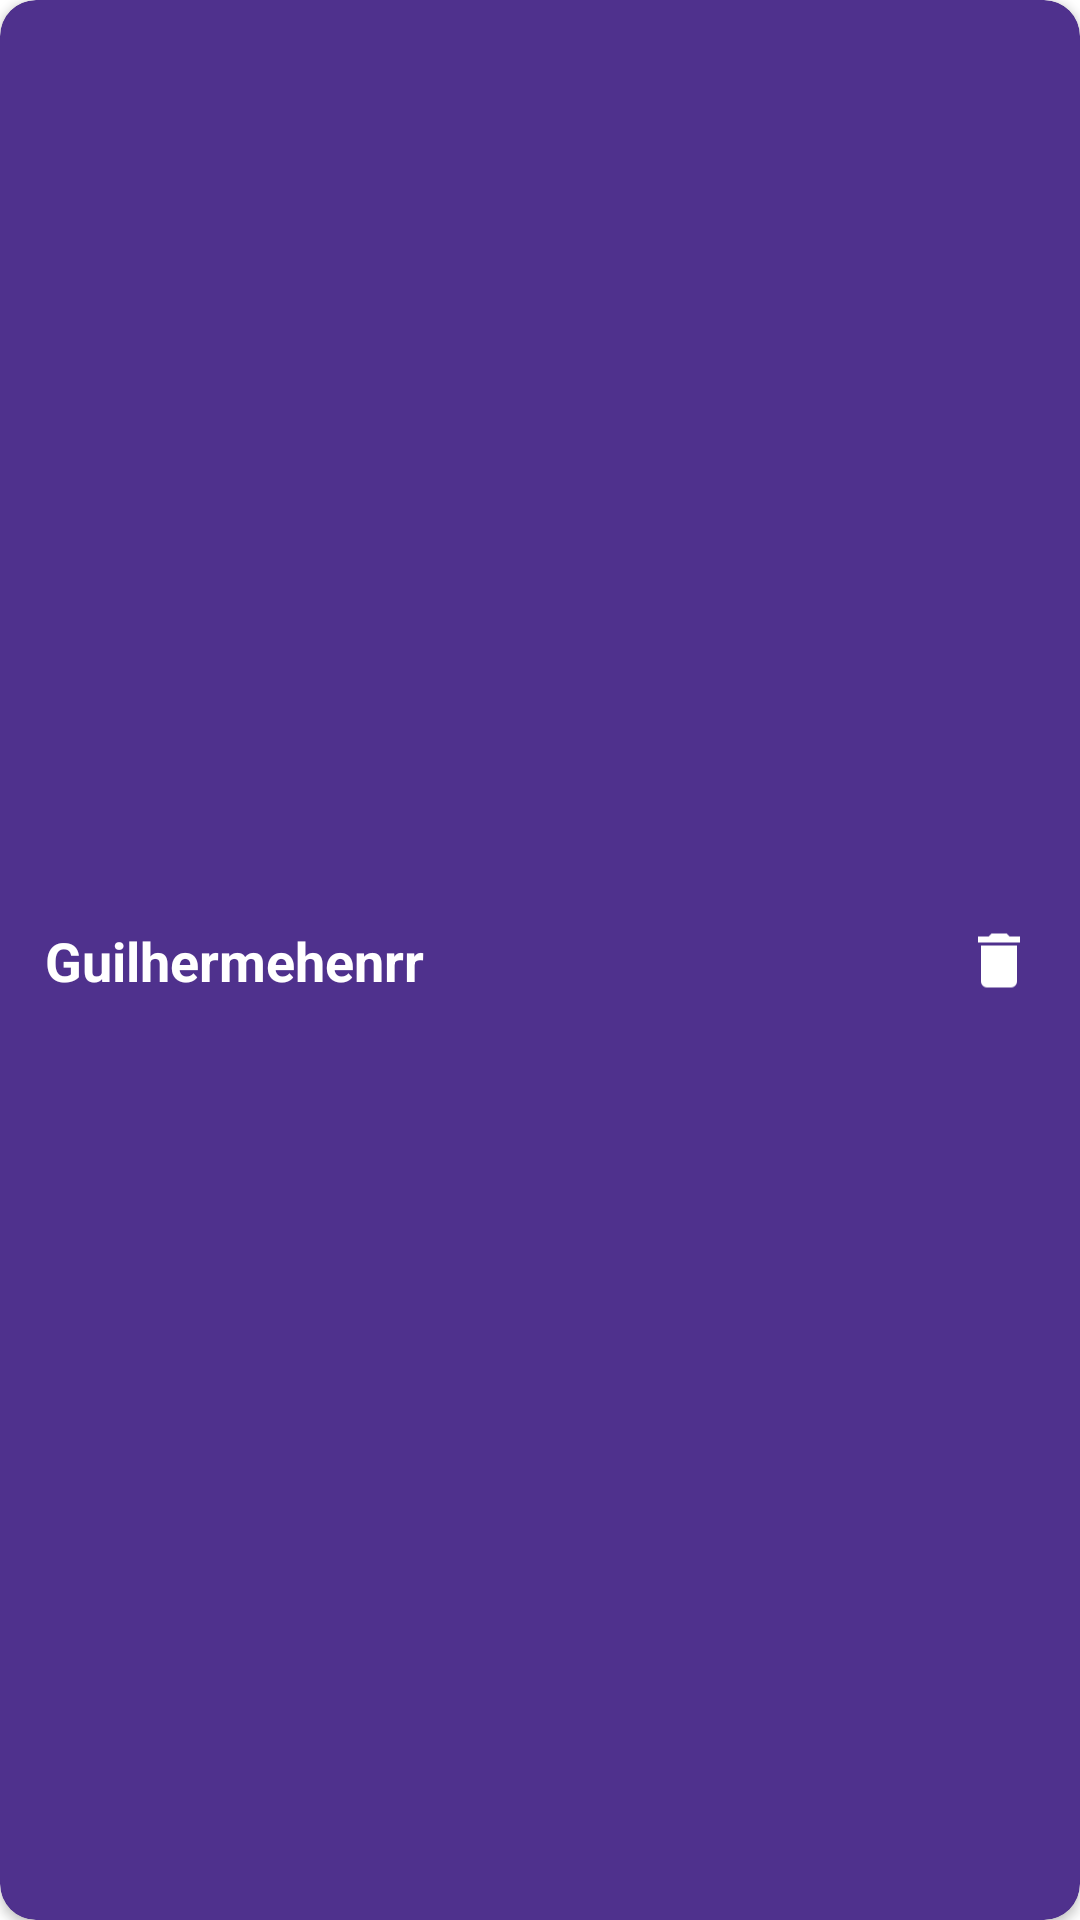

Icon bounding boxes for this 1080 × 1920 phone screenshot, format {"left": x1, "top": y1, "right": x2, "bottom": y2}:
trash: {"left": 978, "top": 933, "right": 1020, "bottom": 988}
